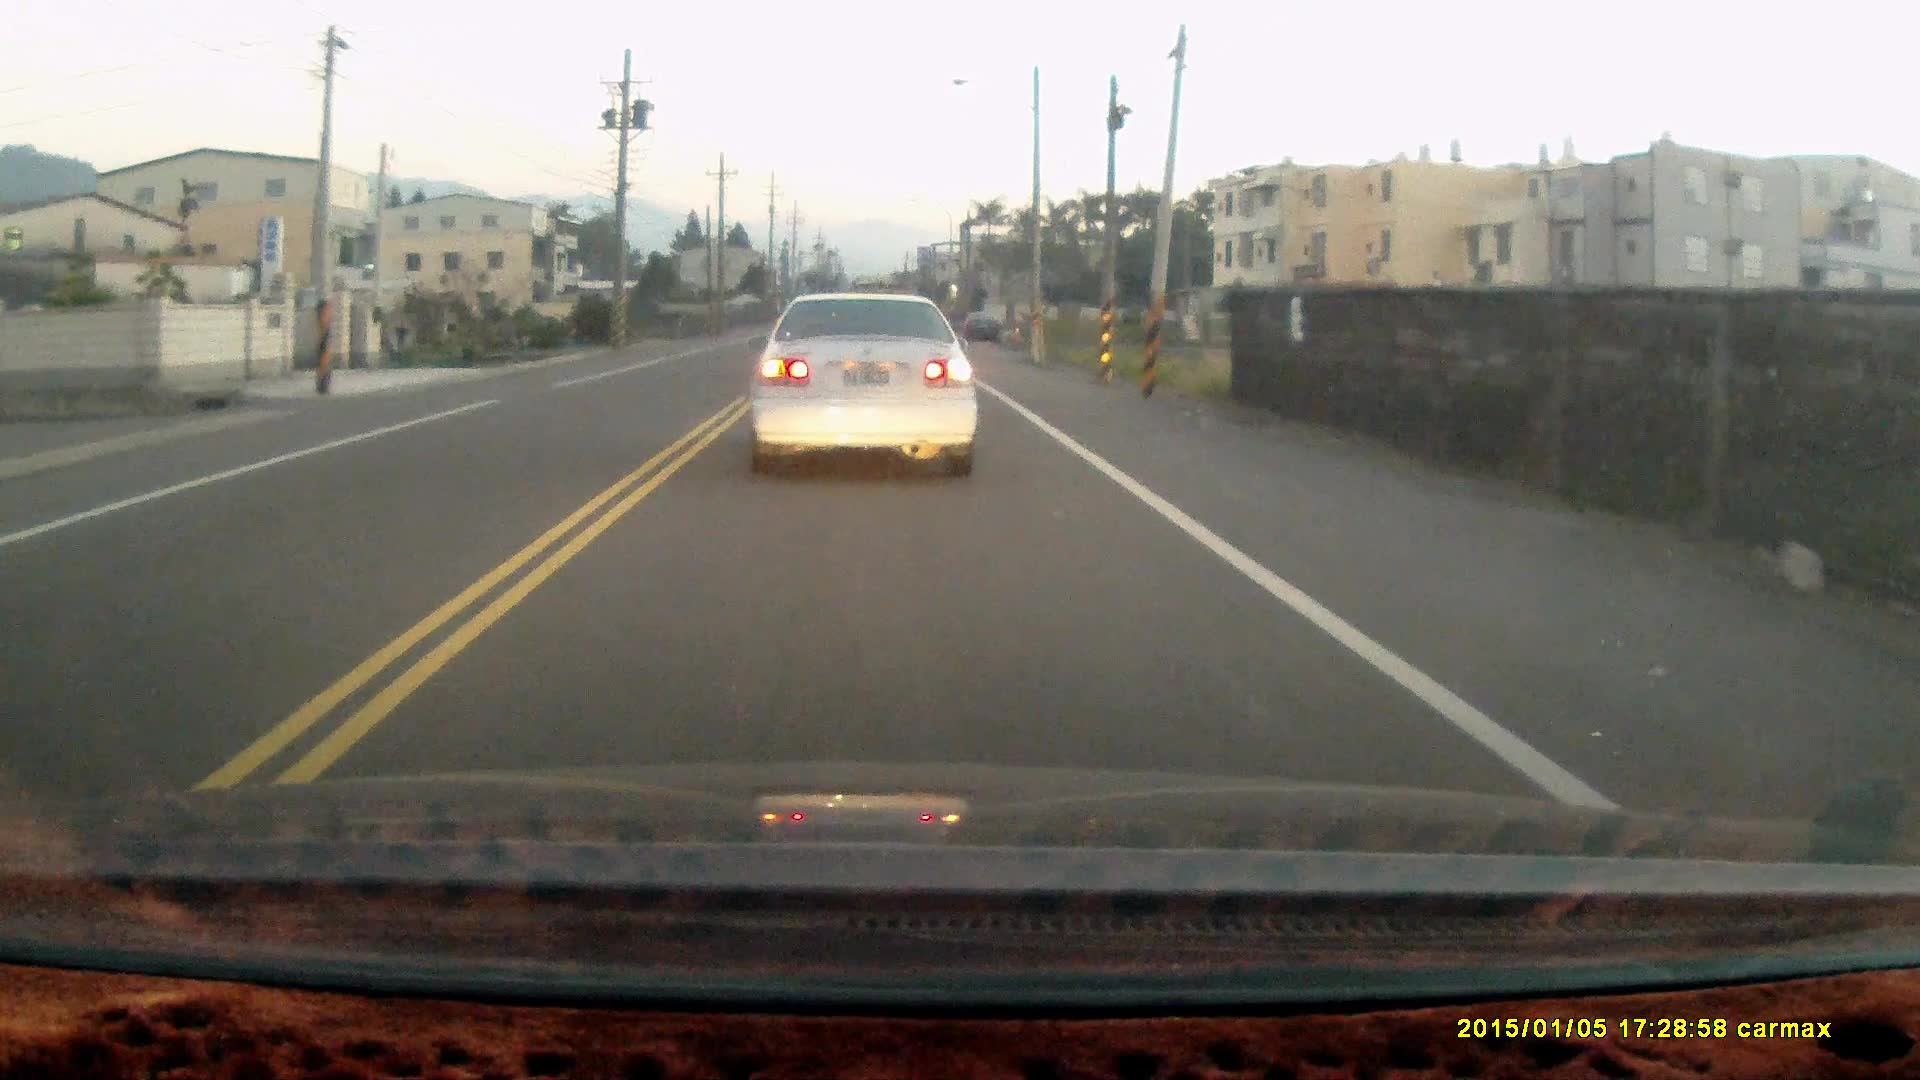vehicle: (752, 286, 985, 477), (963, 310, 1007, 347)
